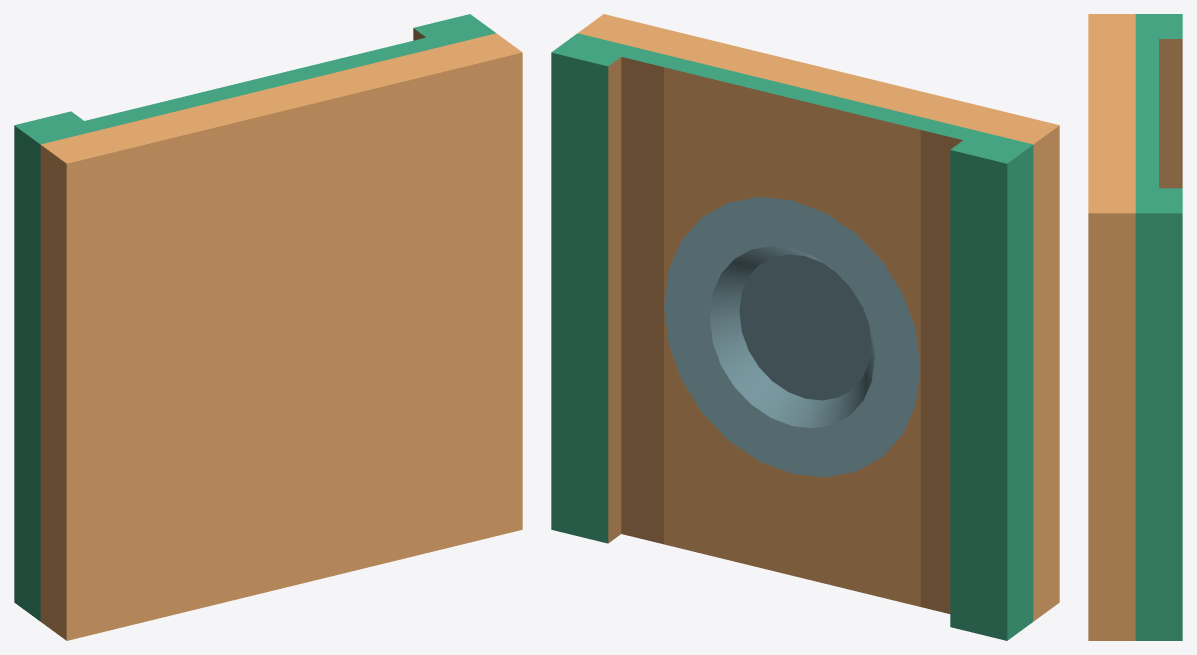
The model's file is tile_spawnRound.obj.
3 renders of one model, left to right at view 1: azimuth 30°, elevation 25°; view 2: azimuth 150°, elevation 25°; view 3: azimuth 270°, elevation 25°, orthographic. The views are drawn at different scales.
Parts seen in each view (by area): view 1: tile_spawnRound; view 2: tile_spawnRound; view 3: tile_spawnRound.
Boxes of the visible parts, x1=… form: tile_spawnRound: x1=14, y1=14, x2=522, y2=640; tile_spawnRound: x1=551, y1=14, x2=1059, y2=640; tile_spawnRound: x1=1088, y1=14, x2=1182, y2=640.
Size of the model in its own units: 1 by 1 by 0.2.
